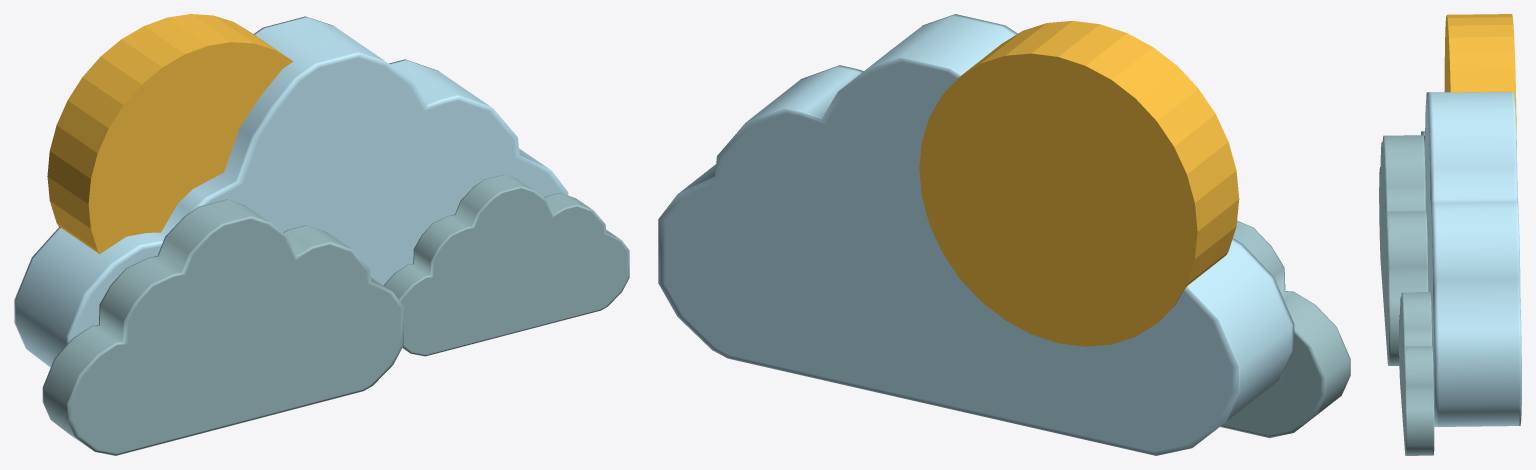
The model's file is clouds.glb.
3 views of the same model, side by side, from view 1: azimuth 30°, elevation 25°; view 2: azimuth 150°, elevation 25°; view 3: azimuth 270°, elevation 25° (orthographic). The views are drawn at different scales.
Visible parts, largest first — view 1: Circle.001, Plane.001, Plane.002; view 2: Circle.001, Plane.001; view 3: Circle.001, Plane.001, Plane.002.
Boxes of the visible parts, bbox=[...] form: Circle.001: bbox=[14, 14, 568, 367]; Plane.001: bbox=[42, 199, 403, 455]; Plane.002: bbox=[383, 174, 629, 356]; Circle.001: bbox=[658, 14, 1294, 455]; Plane.001: bbox=[1220, 220, 1350, 438]; Circle.001: bbox=[1421, 14, 1521, 426]; Plane.001: bbox=[1379, 135, 1428, 365]; Plane.002: bbox=[1399, 292, 1434, 455].
Bounding box in the file's own units: 2.66 × 1.53 × 0.6808.
